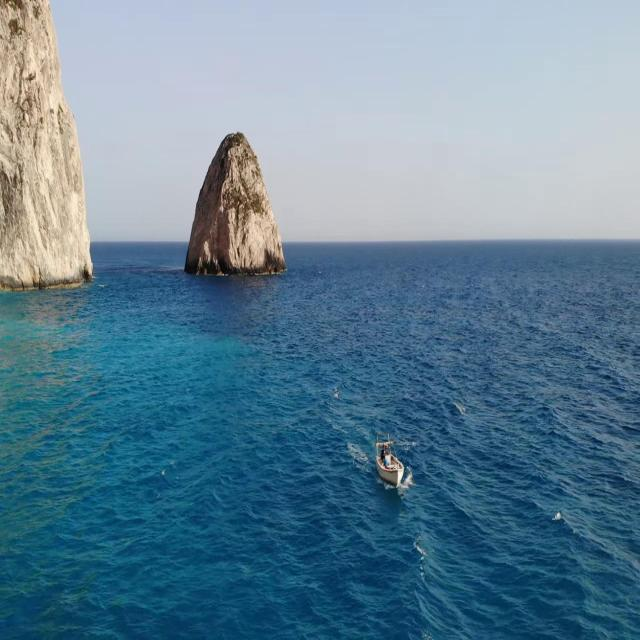boat: (374, 438, 406, 494)
